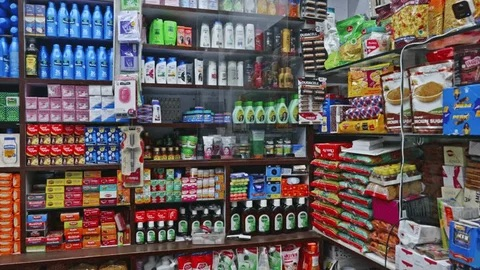parachute: (0, 1, 18, 76)
